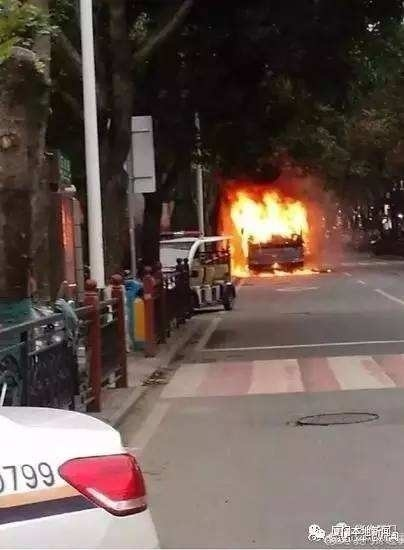fire: (223, 181, 317, 278)
